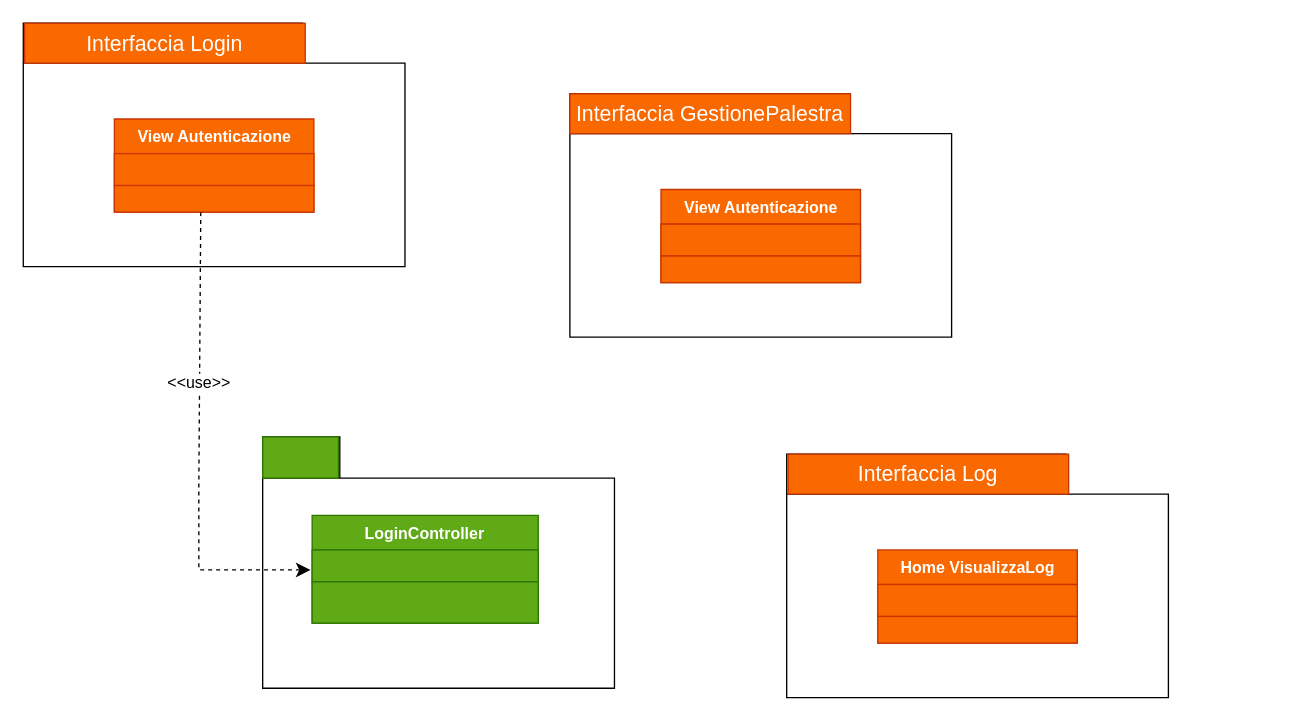
Some shapes in this 1290 by 721 pixel diagram are drawn without their labels. Each missing label, with the centre of its shape:
"+ autentica(string, string)" belongs at (424,602).
"Login" belongs at (299,457).
